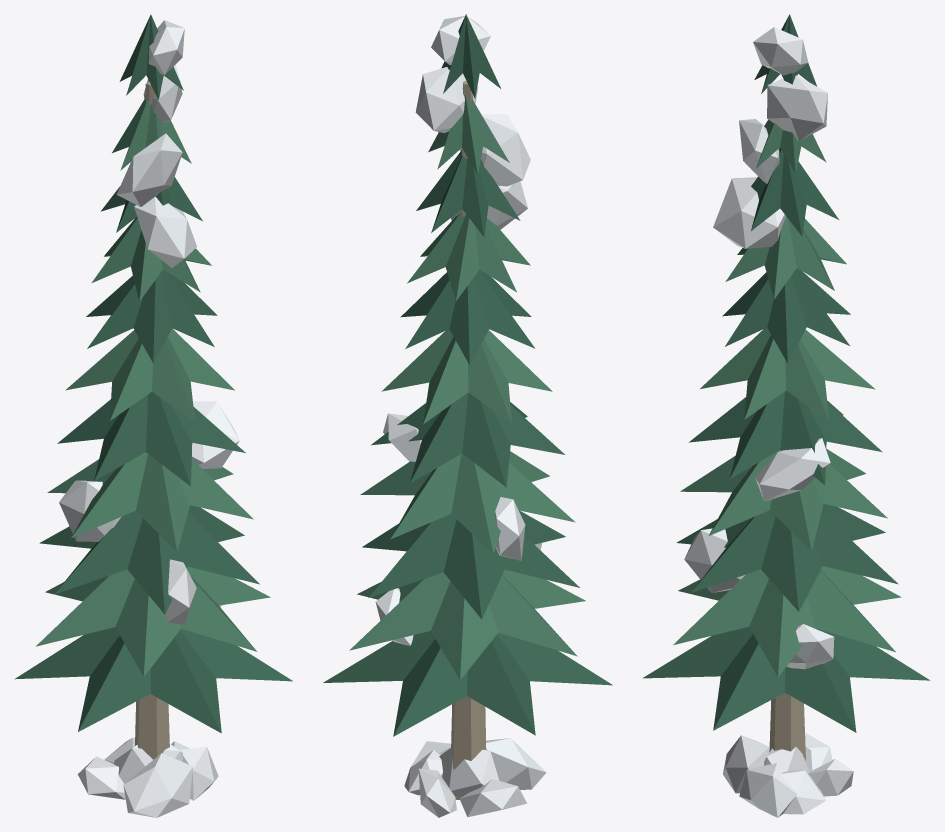
Rendered from SM_Tree_Conifer_Winter_03.glb.
3 views of the same model, side by side, from view 1: azimuth 30°, elevation 25°; view 2: azimuth 150°, elevation 25°; view 3: azimuth 270°, elevation 25° (orthographic).
Visible parts, largest first — view 1: SM_Tree_Conifer_Winter_03; view 2: SM_Tree_Conifer_Winter_03; view 3: SM_Tree_Conifer_Winter_03.
Boxes of the visible parts, left/top/right/bottom form: SM_Tree_Conifer_Winter_03: left=14, top=14, right=292, bottom=817; SM_Tree_Conifer_Winter_03: left=323, top=14, right=612, bottom=817; SM_Tree_Conifer_Winter_03: left=642, top=14, right=930, bottom=817.
Bounding box in the file's own units: 2.32 × 7.53 × 2.55.
